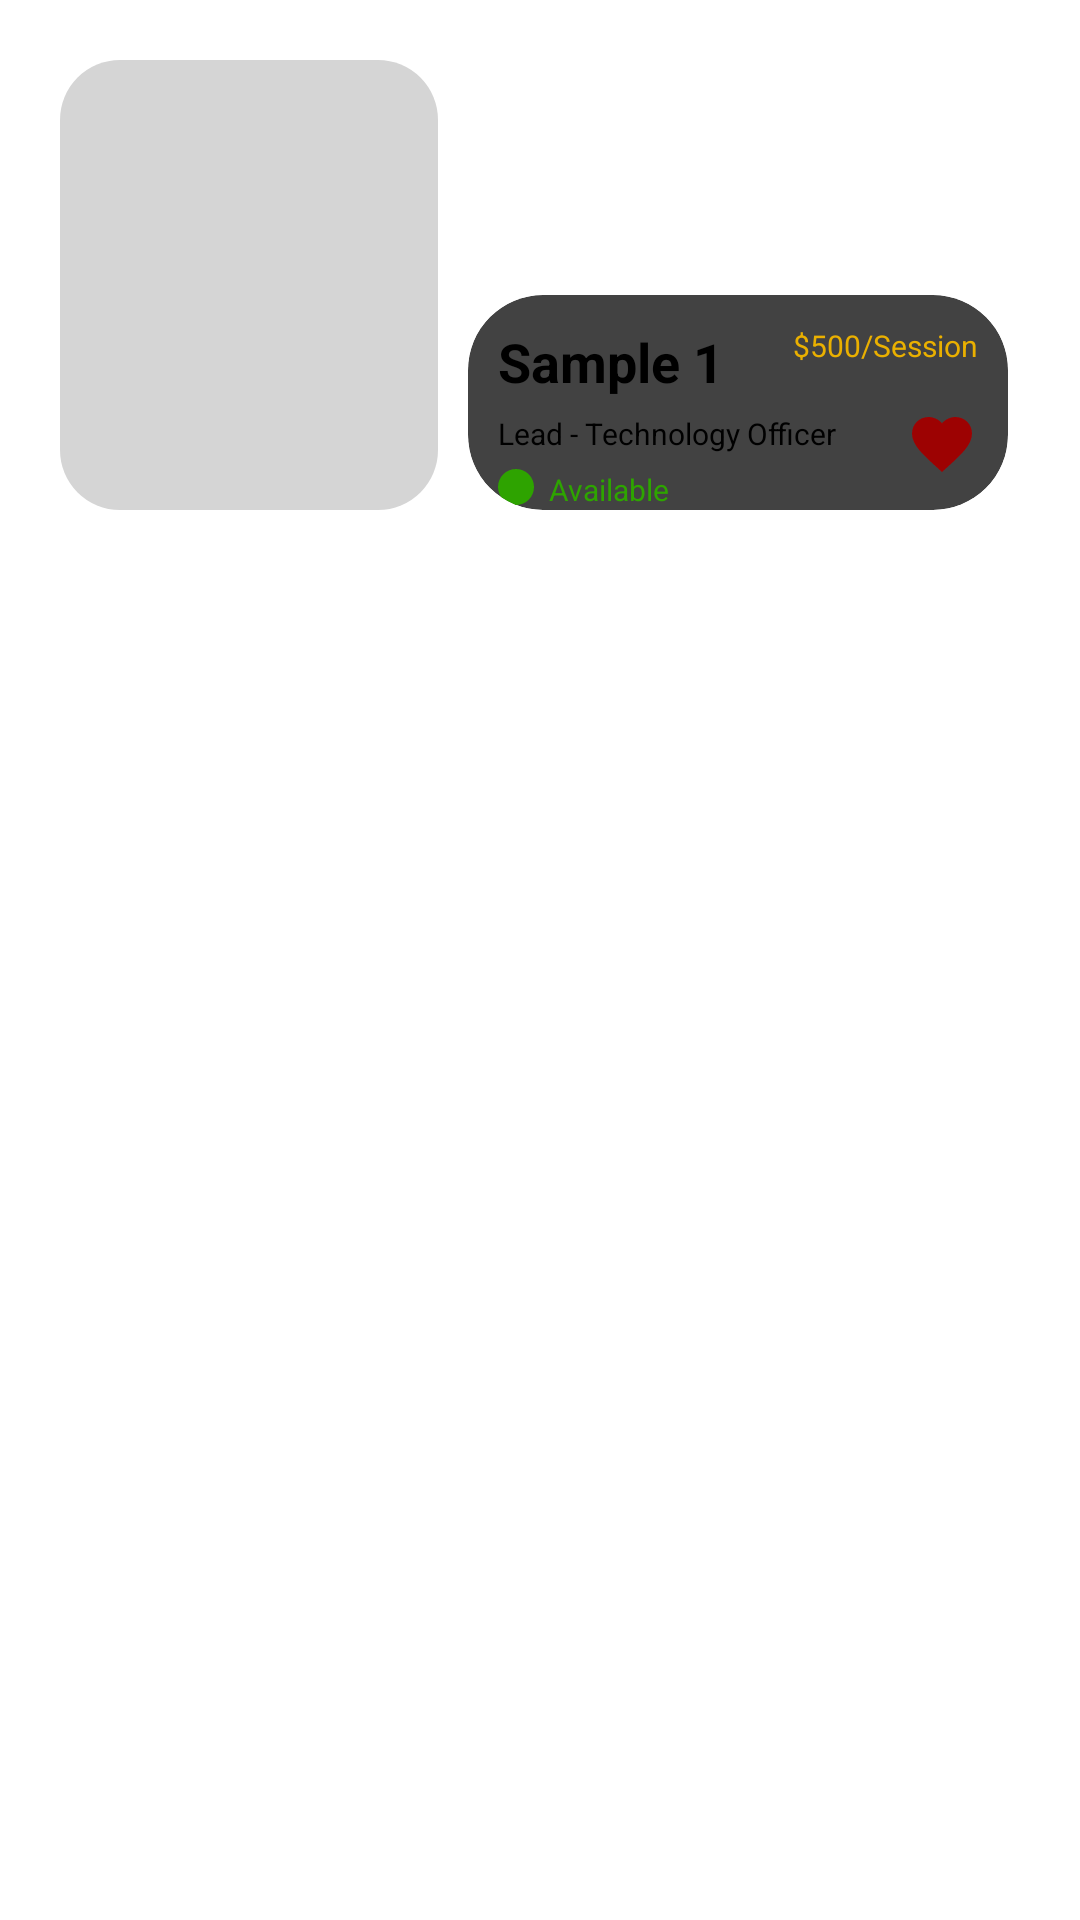

Where to tap for icons on this 1080×1920 app screen, as (x,y):
favorite: (942,444)
